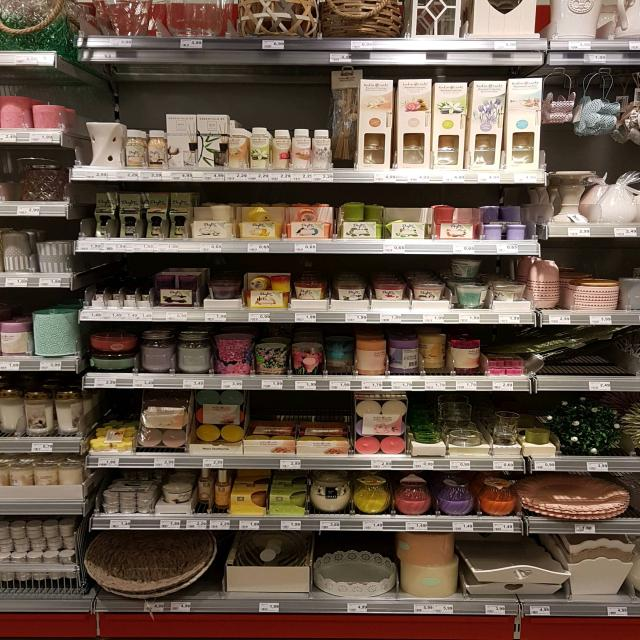unorganised: (197, 393, 242, 451), (332, 67, 357, 168), (419, 330, 452, 378), (356, 333, 389, 381), (389, 332, 420, 376), (452, 335, 482, 374), (326, 337, 356, 375), (343, 203, 384, 228), (451, 256, 483, 283), (486, 205, 524, 226)
